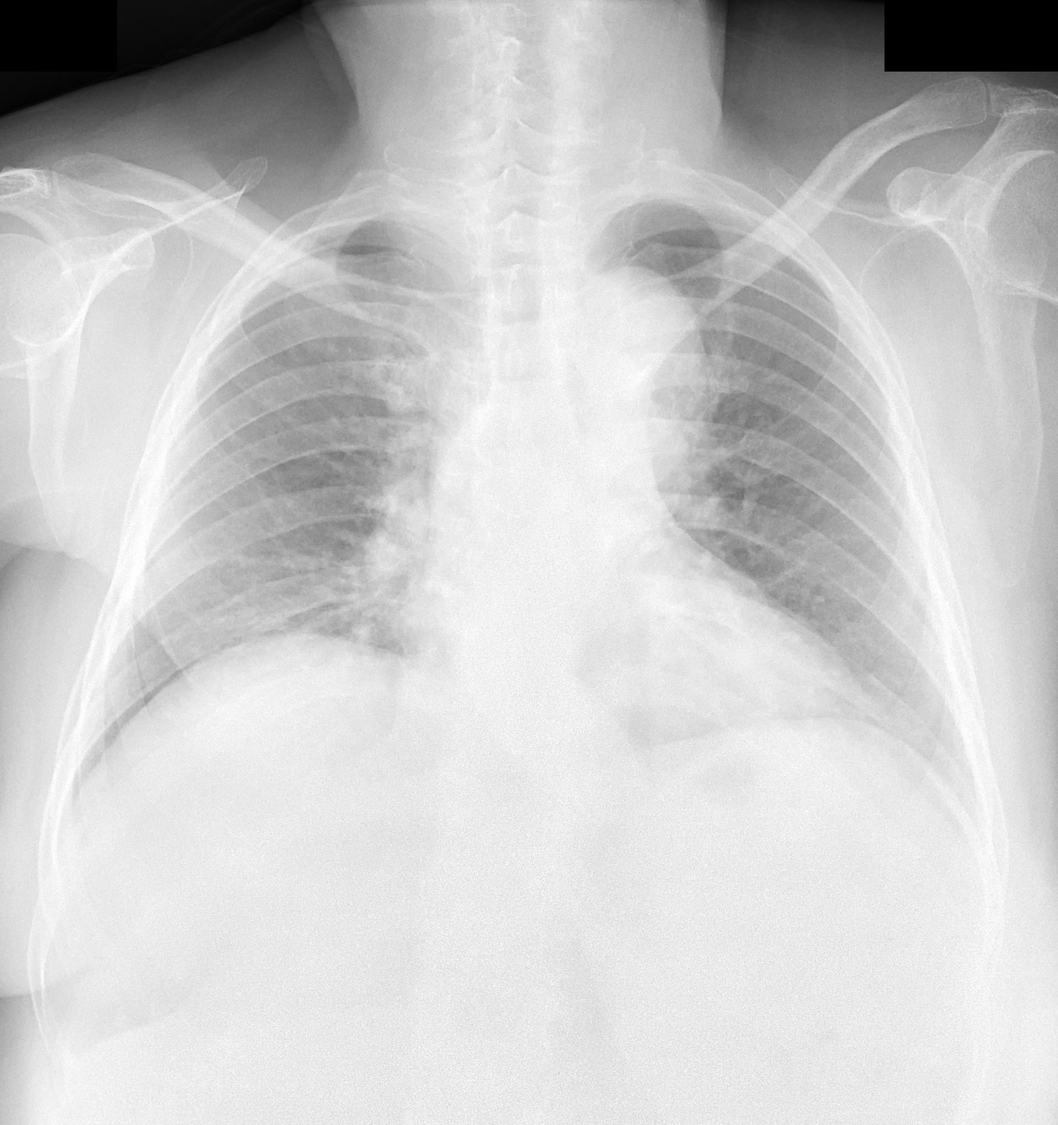Aortic enlargement: (561, 258, 714, 429)
